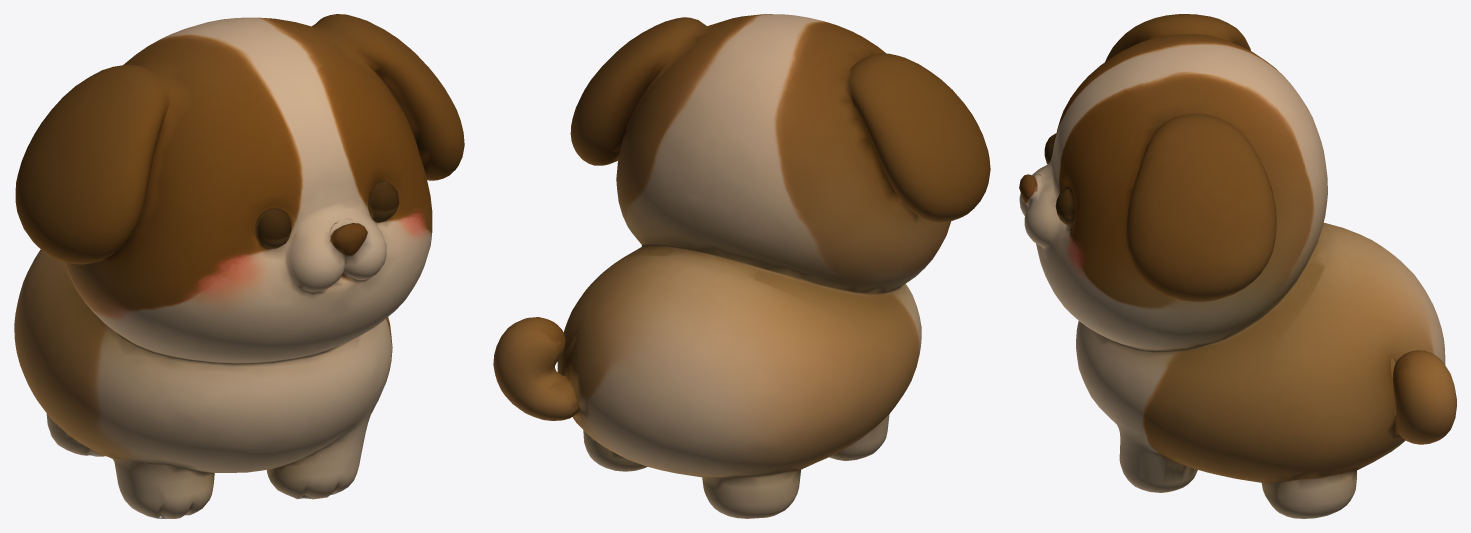
File: dog-approved.glb
The picture shows the model from 3 angles, left to right: view 1: azimuth 30°, elevation 25°; view 2: azimuth 150°, elevation 25°; view 3: azimuth 270°, elevation 25°; orthographic projection. The views are drawn at different scales.
Parts seen in each view (by area): view 1: material; view 2: material; view 3: material.
Part boxes in pixels (x1=…): material: x1=14, y1=14, x2=464, y2=518; material: x1=493, y1=14, x2=990, y2=518; material: x1=1019, y1=14, x2=1456, y2=518.
Bounding box in the file's own units: 1.85 × 1.9 × 1.85.
1 material, 1 textured.
